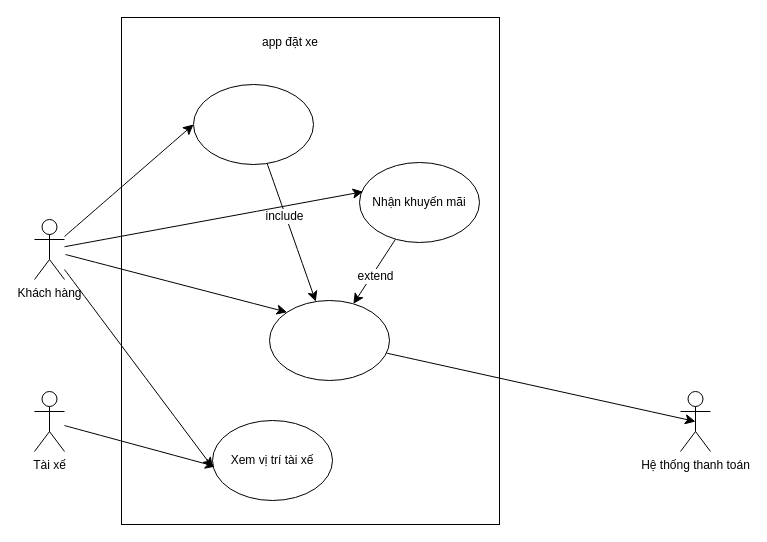
This 767x542 diagram has some shape labels left out. Each missing label, with the box of its shape:
Thanh toán: (268, 300, 390, 380)
Đặt xe: (192, 84, 314, 164)
